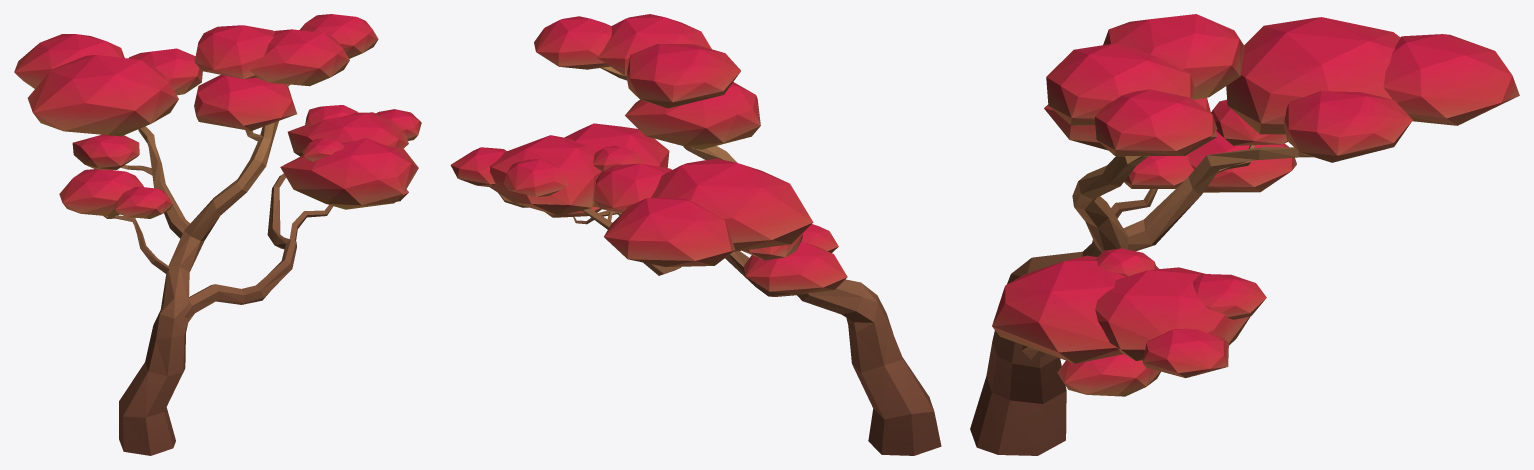
File: ZLP_Plant_A_5.FBX
3 renders of one model, left to right at view 1: azimuth 30°, elevation 25°; view 2: azimuth 150°, elevation 25°; view 3: azimuth 270°, elevation 25°, orthographic. The views are drawn at different scales.
Visible parts, largest first — view 1: ZLP_Plant_A_5; view 2: ZLP_Plant_A_5; view 3: ZLP_Plant_A_5.
Part boxes in pixels (x1,y1,x2,y2): ZLP_Plant_A_5: (14,14,421,455); ZLP_Plant_A_5: (450,14,941,455); ZLP_Plant_A_5: (970,14,1519,455).
Bounding box in the file's own units: 447 × 406 × 389.
